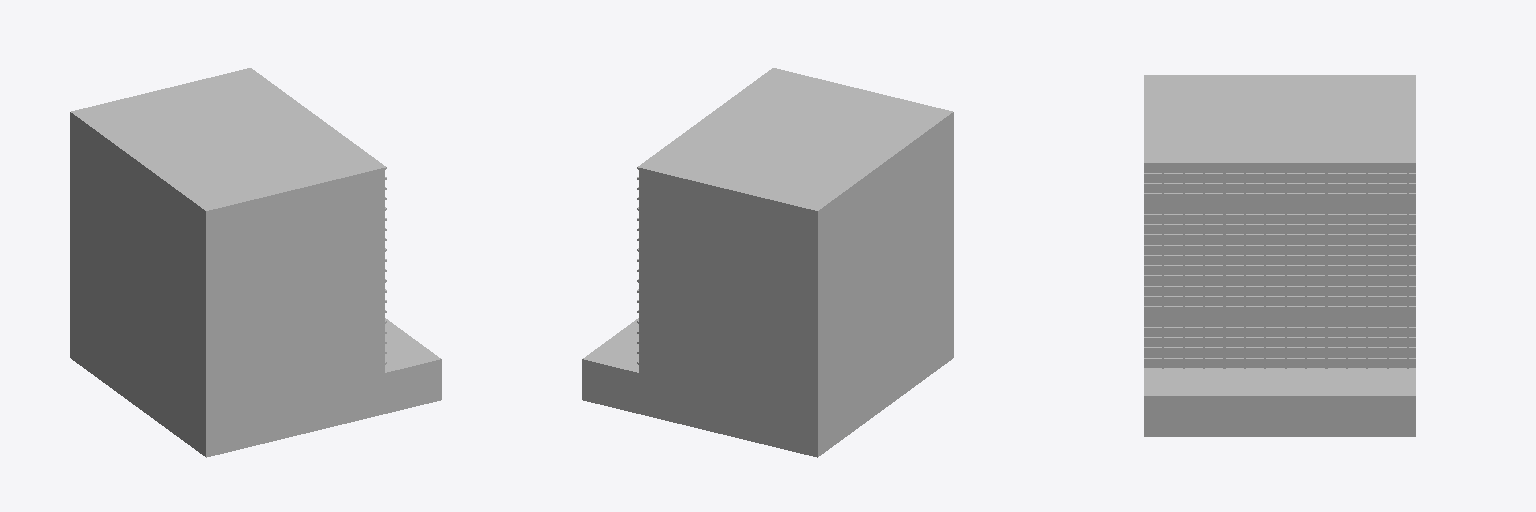
File: 3d fon 1.1-21.obj
3 renders of one model, left to right at view 1: azimuth 30°, elevation 25°; view 2: azimuth 150°, elevation 25°; view 3: azimuth 270°, elevation 25°, orthographic.
Visible parts, largest first — view 1: object 1; view 2: object 1; view 3: object 1.
Boxes of the visible parts, <box> form: object 1: <box>70,68,441,457</box>; object 1: <box>582,68,953,457</box>; object 1: <box>1144,75,1415,436</box>.
Bounding box in the file's own units: 12 × 12 × 12.